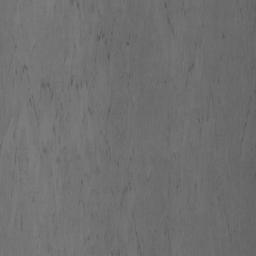Silk spot: (0, 0, 174, 256), (208, 176, 236, 242), (197, 78, 222, 149), (165, 113, 192, 163), (185, 40, 205, 88), (164, 1, 190, 35), (168, 177, 197, 202), (240, 137, 256, 179), (237, 0, 256, 32), (243, 86, 256, 128)
